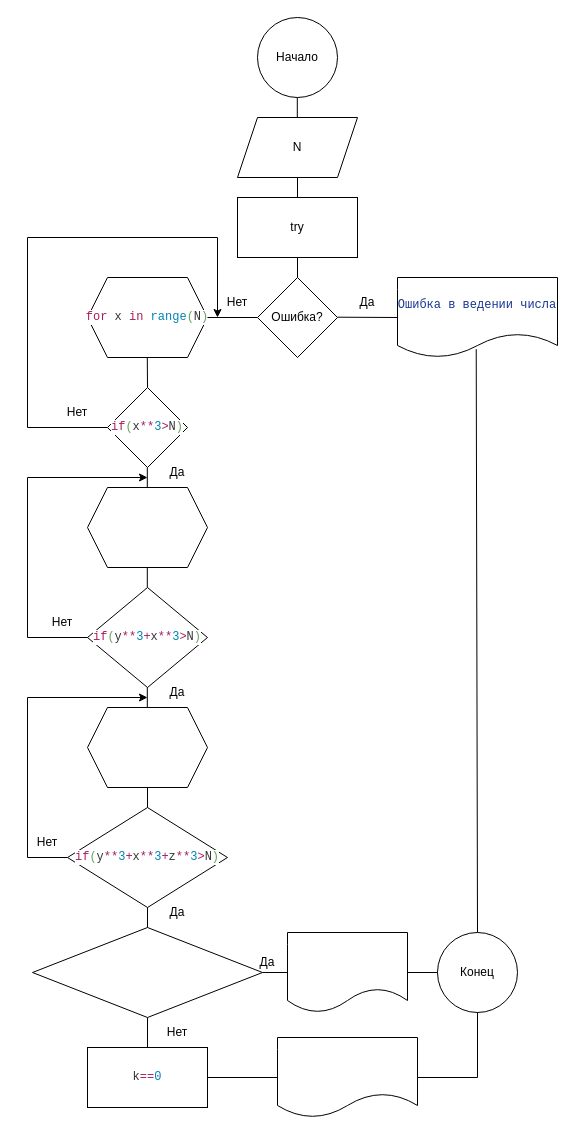
Some shapes in this 575 by 1135 pixel diagram are drawn without their labels. Here are the shapes that lost their labels. From the top down, the box of each, then its label:
(86, 486, 208, 568): for y in range ( N )
(86, 706, 208, 788): for z in range ( N )
(32, 926, 262, 1018): if (( x ** 3 ) + ( y ** 3 ) + ( z ** 3 ) == N )
(286, 932, 408, 1012): x , y , z
(276, 1036, 418, 1118): No such combinations
